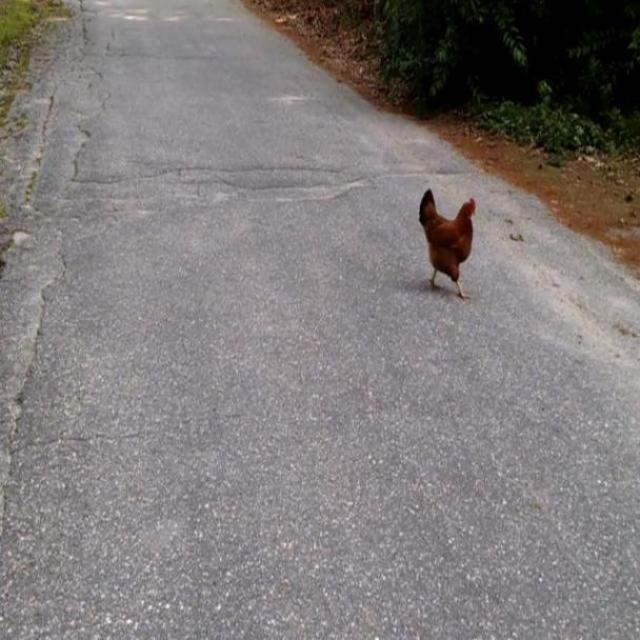Chicken: (418, 189, 477, 302)
